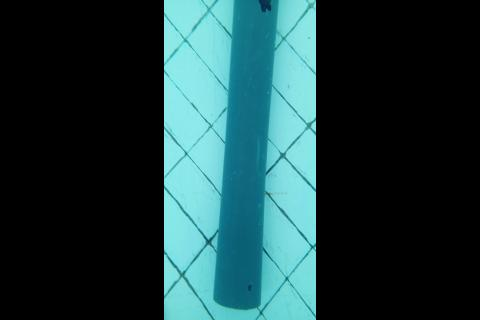kebocoran: (257, 0, 273, 14)
